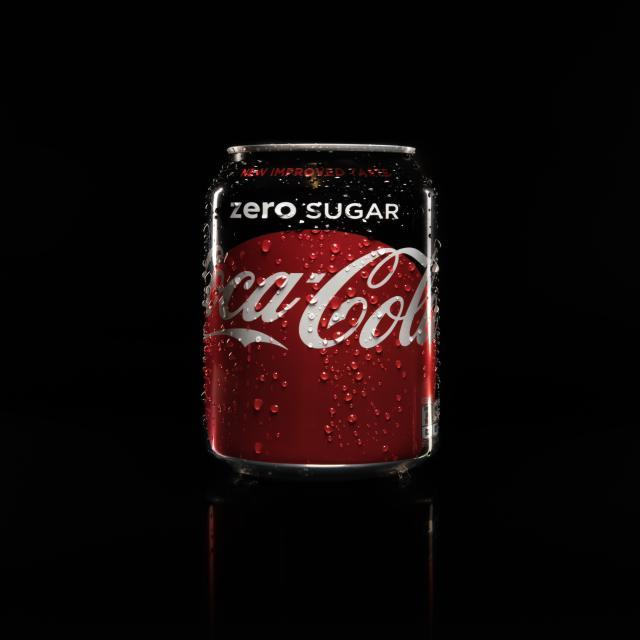can: (189, 107, 486, 504)
